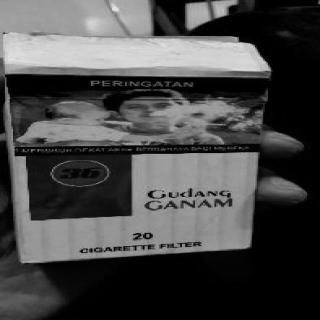objects: (5, 75, 268, 263)
